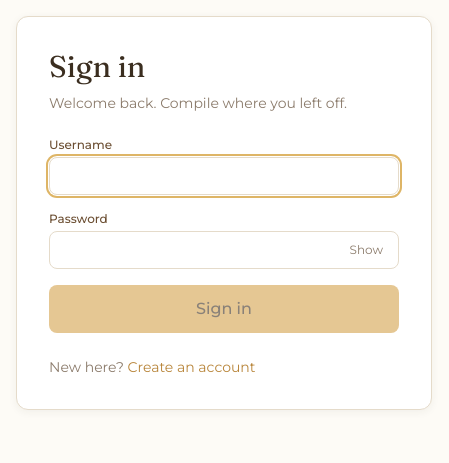
Test: LoginPage › shows an inline message when credentials are rejected
The image size is (449, 463).
Type "alice" into the field labelled "Username" at (224, 176), box [49,157,399,195]
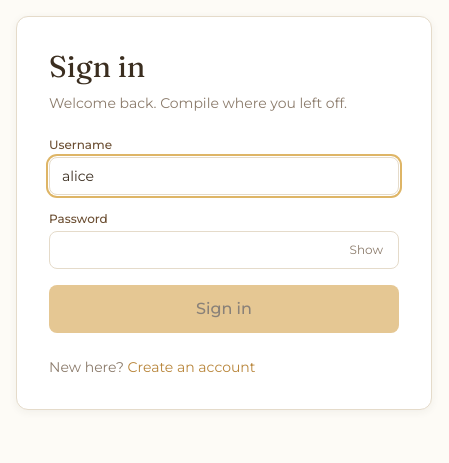
Type "wrongpassword" into the password field labelled "Password" at (224, 250), box [49,231,399,269]
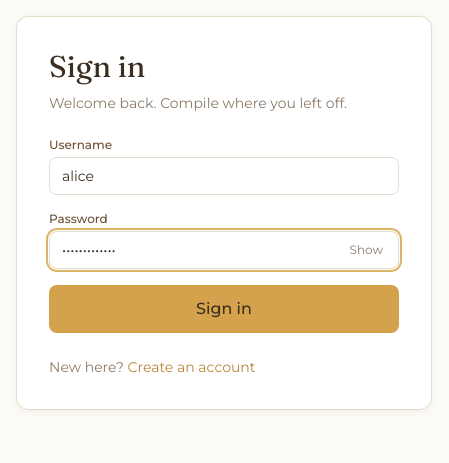
Click the button "Sign in" at (224, 309), box [49,285,399,333]
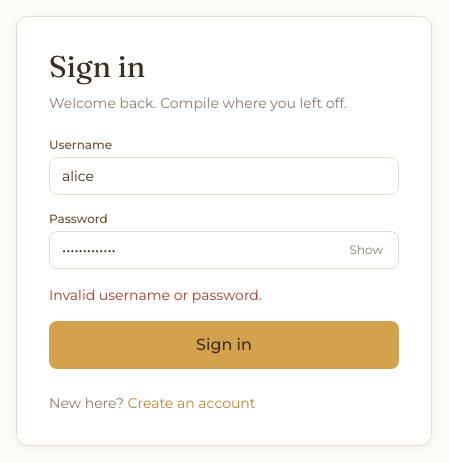
expect the message with test id "login-error" shows "Invalid username or password": met, box [49,286,262,304]
